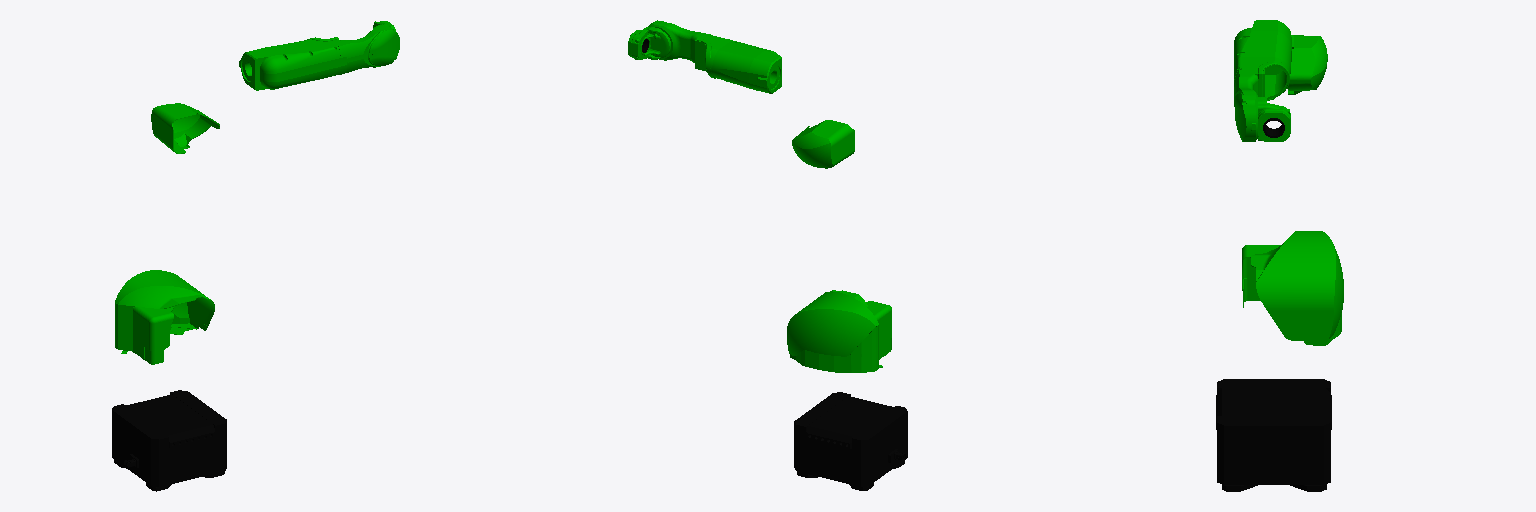
The robot description file, URDF, robot "cr_35ib":
<?xml version="1.0"?>

<robot name="cr_35ib">

    <material name="black">
        <color rgba="0.05 0.05 0.05 1"/>
    </material>

    <material name="green">
        <color rgba="0 0.7 0 1"/>
    </material>

    <link name="world"/>

<!-- base Joint and Link 0 -->

    <joint name="base_joint" type="fixed">
        <origin rpy="0 0 0" xyz="0 0 0"/>
        <parent link="world"/>
        <child link="sensor"/>
    </joint>

    <link name="sensor">
        <visual>
            <origin rpy="0 0 0" xyz="0 0 0"/>
            <geometry>
                <mesh filename="package://fanuc_cr_35ib/meshes/sensor.stl" scale="0.001 0.001 0.001"/>
            </geometry>
            <material name="black"/>
        </visual>
        <collision>
            <origin rpy="0 0 0" xyz="0 0 0"/>
            <geometry>
                <mesh filename="package://fanuc_cr_35ib/meshes/sensor.stl" scale="0.001 0.001 0.001"/>
            </geometry>
        </collision>
        <!-- <inertial>
            <mass value="."/>
            <origin rpy="" xyz=""/>
            <inertia ixx="" ixy="" ixz="" iyy="" iyz="" izz=""/>
        </inertial> -->
    </link>

    <joint name="base_joint2" type="fixed">
        <origin rpy="0 0 0" xyz="0 0 0"/>
        <parent link="world"/>
        <child link="base"/>
    </joint>

    <link name="base">
        <visual>
            <origin rpy="0 0 0" xyz="0 0 0"/>
            <geometry>
                <mesh filename="package://fanuc_cr_35ib/meshes/base.stl" scale="0.001 0.001 0.001"/>
            </geometry>
            <material name="black"/>
        </visual>
        <collision>
            <origin rpy="0 0 0" xyz="0 0 0"/>
            <geometry>
                <mesh filename="package://fanuc_cr_35ib/meshes/base.stl" scale="0.001 0.001 0.001"/>
            </geometry>
        </collision>
        <!-- <inertial>
            <mass value=""/>
            <origin rpy="" xyz=""/>
            <inertia ixx="" ixy="" ixz="" iyy="" iyz="" izz=""/>
        </inertial> -->
    </link>

<!-- Joint 1 and Link 1 -->

    <joint name="J1" type="revolute">
        <origin rpy="0 0 0" xyz="0 0 0.668"/>
        <parent link="base"/>
        <child link="link1"/>
        <axis xyz="0 0 1"/>
        <limit lower="-3.23" upper="3.23" effort="1" velocity="1.0"/>
    </joint>
    <link name="link1">
        <visual>
            <origin rpy="0 0 0" xyz="0 0 0"/>
            <geometry>
                <mesh filename="package://fanuc_cr_35ib/meshes/link1.stl" scale="0.001 0.001 0.001"/>
            </geometry>
            <material name="green"/>
        </visual>
        <collision>
            <origin rpy="0 0 0" xyz="0 0 0"/>
            <geometry>
                <mesh filename="package://fanuc_cr_35ib/meshes/link1.stl" scale="0.001 0.001 0.001"/>
            </geometry>
        </collision>
        <!-- <inertial>
            <mass value=""/>
            <origin rpy="" xyz=""/>
            <inertia ixx="" ixy="" ixz="" iyy="" iyz="" izz=""/>
        </inertial> -->
    </link>

    <joint name="cover_j1" type="fixed">
        <origin rpy="0 0 0" xyz="0 0 0"/>
        <parent link="link1"/>
        <child link="cover_j1"/>
    </joint>
    <link name="cover_j1">
        <visual>
            <origin rpy="0 0 0" xyz="0 0 0"/>
            <geometry>
                <mesh filename="package://fanuc_cr_35ib/meshes/coverj1.stl" scale="0.001 0.001 0.001"/>
            </geometry>
            <material name="green"/>
        </visual>
        <collision>
            <origin rpy="0 0 0" xyz="0 0 0"/>
            <geometry>
                <mesh filename="package://fanuc_cr_35ib/meshes/coverj1.stl" scale="0.001 0.001 0.001"/>
            </geometry>
        </collision>
        <!-- <inertial>
            <mass value=""/>
            <origin rpy="" xyz=""/>
            <inertia ixx="" ixy="" ixz="" iyy="" iyz="" izz=""/>
        </inertial> -->
    </link>

    <joint name="rear_cover_j1" type="fixed">
        <origin rpy="0 0 0" xyz="0 0 0"/>
        <parent link="link1"/>
        <child link="rear_cover_j1"/>
    </joint>
    <link name="rear_cover_j1">
        <visual>
            <origin rpy="0 0 0" xyz="0 0 0"/>
            <geometry>
                <mesh filename="package://fanuc_cr_35ib/meshes/rearcoverj1.stl" scale="0.001 0.001 0.001"/>
            </geometry>
            <material name="green"/>
        </visual>
        <collision>
            <origin rpy="0 0 0" xyz="0 0 0"/>
            <geometry>
                <mesh filename="package://fanuc_cr_35ib/meshes/rearcoverj1.stl" scale="0.001 0.001 0.001"/>
            </geometry>
        </collision>
        <!-- <inertial>
            <mass value=""/>
            <origin rpy="" xyz=""/>
            <inertia ixx="" ixy="" ixz="" iyy="" iyz="" izz=""/>
        </inertial> -->
    </link>

<!-- Joint 2 and Link 2 -->

    <joint name="J2" type="revolute">
        <origin rpy="-1.570796 0 0" xyz="0.075 0 0"/>
        <parent link="link1"/>
        <child link="link2"/>
        <axis xyz="0 0 1"/>
        <limit lower="-1.40" upper="2.36" effort="1" velocity="1.0"/>
    </joint>
    <link name="link2">
        <visual>
            <origin rpy="0 0 0" xyz="0 0 0"/>
            <geometry>
                <mesh filename="package://fanuc_cr_35ib/meshes/link2.stl" scale="0.001 0.001 0.001"/>
            </geometry>
            <material name="green"/>
        </visual>
        <collision>
            <origin rpy="0 0 0" xyz="0 0 0"/>
            <geometry>
                <mesh filename="package://fanuc_cr_35ib/meshes/link2.stl" scale="0.001 0.001 0.001"/>
            </geometry>
        </collision>
        <!-- <inertial>
            <mass value=""/>
            <origin rpy="" xyz=""/>
            <inertia ixx="" ixy="" ixz="" iyy="" iyz="" izz=""/>
        </inertial> -->
    </link>

<!-- Joint 3 and Link 3 -->

    <joint name="J3" type="revolute">
        <origin rpy="3.141529 0 -1.570796" xyz="0 -0.840 0"/>
        <parent link="link2"/>
        <child link="link3"/>
        <axis xyz="0 0 1"/>
        <limit lower="-2.42" upper="3.49" effort="1" velocity="1.0"/>
    </joint>
    <link name="link3">
        <visual>
            <origin rpy="0 0 0" xyz="0 0 0"/>
            <geometry>
                <mesh filename="package://fanuc_cr_35ib/meshes/link3.stl" scale="0.001 0.001 0.001"/>
            </geometry>
            <material name="green"/>
        </visual>
        <collision>
            <origin rpy="0 0 0" xyz="0 0 0"/>
            <geometry>
                <mesh filename="package://fanuc_cr_35ib/meshes/link3.stl" scale="0.001 0.001 0.001"/>
            </geometry>
        </collision>
        <!-- <inertial>
            <mass value=""/>
            <origin rpy="" xyz=""/>
            <inertia ixx="" ixy="" ixz="" iyy="" iyz="" izz=""/>
        </inertial> -->
    </link>

    <joint name="cover_j3" type="fixed">
        <origin rpy="0 0 0" xyz="0 0 0"/>
        <parent link="link3"/>
        <child link="cover_j3"/>
    </joint>
    <link name="cover_j3">
        <visual>
            <origin rpy="0 0 0" xyz="0 0 0"/>
            <geometry>
                <mesh filename="package://fanuc_cr_35ib/meshes/coverj3.stl" scale="0.001 0.001 0.001"/>
            </geometry>
            <material name="green"/>
        </visual>
        <collision>
            <origin rpy="0 0 0" xyz="0 0 0"/>
            <geometry>
                <mesh filename="package://fanuc_cr_35ib/meshes/coverj3.stl" scale="0.001 0.001 0.001"/>
            </geometry>
        </collision>
        <!-- <inertial>
            <mass value=""/>
            <origin rpy="" xyz=""/>
            <inertia ixx="" ixy="" ixz="" iyy="" iyz="" izz=""/>
        </inertial> -->
    </link>

<!-- Joint 4 and Link 4 -->

    <joint name="J4" type="revolute">
        <origin rpy="-1.570796 0 0" xyz="0.215 0 0"/>
        <parent link="link3"/>
        <child link="link4"/>
        <axis xyz="0 0 1"/>
        <limit lower="-3.49" upper="3.49" effort="1" velocity="1.0"/>
    </joint>
    <link name="link4">
        <visual>
            <origin rpy="0 0 0" xyz="0 0 0"/>
            <geometry>
                <mesh filename="package://fanuc_cr_35ib/meshes/link4.stl" scale="0.001 0.001 0.001"/>
            </geometry>
            <material name="green"/>
        </visual>
        <collision>
            <origin rpy="0 0 0" xyz="0 0 0"/>
            <geometry>
                <mesh filename="package://fanuc_cr_35ib/meshes/link4.stl" scale="0.001 0.001 0.001"/>
            </geometry>
        </collision>
        <!-- <inertial>
            <mass value=""/>
            <origin rpy="" xyz=""/>
            <inertia ixx="" ixy="" ixz="" iyy="" iyz="" izz=""/>
        </inertial> -->
    </link>

<!-- Joint 5 and Link 5 -->

    <joint name="J5" type="revolute">
        <origin rpy="1.570796 0 0" xyz="0 0 -0.890"/>
        <parent link="link4"/>
        <child link="link5"/>
        <axis xyz="0 0 1"/>
        <limit lower="-2.44" upper="2.44" effort="1" velocity="1.0"/>
    </joint>
    <link name="link5">
        <visual>
            <origin rpy="0 0 0" xyz="0 0 0"/>
            <geometry>
                <mesh filename="package://fanuc_cr_35ib/meshes/link5.stl" scale="0.001 0.001 0.001"/>
            </geometry>
            <material name="green"/>
        </visual>
        <collision>
            <origin rpy="0 0 0" xyz="0 0 0"/>
            <geometry>
                <mesh filename="package://fanuc_cr_35ib/meshes/link5.stl" scale="0.001 0.001 0.001"/>
            </geometry>
        </collision>
        <!-- <inertial>
            <mass value=""/>
            <origin rpy="" xyz=""/>
            <inertia ixx="" ixy="" ixz="" iyy="" iyz="" izz=""/>
        </inertial> -->
    </link>

<!-- Joint 6 and Link 6 -->

    <joint name="J6" type="revolute">
        <origin rpy="-1.570796 0 0" xyz="0 0 0"/>
        <parent link="link5"/>
        <child link="link6"/>
        <axis xyz="0 0 1"/>
        <limit lower="-7.85" upper="7.85" effort="1" velocity="1.0"/>
    </joint>
    <link name="link6">
        <visual>
            <origin rpy="0 0 0" xyz="0 0 0"/>
            <geometry>
                <mesh filename="package://fanuc_cr_35ib/meshes/link6.stl" scale="0.001 0.001 0.001"/>
            </geometry>
            <material name="black"/>
        </visual>
        <collision>
            <origin rpy="0 0 0" xyz="0 0 0"/>
            <geometry>
                <mesh filename="package://fanuc_cr_35ib/meshes/link6.stl" scale="0.001 0.001 0.001"/>
            </geometry>
        </collision>
        <!-- <inertial>
            <mass value=""/>
            <origin rpy="" xyz=""/>
            <inertia ixx="" ixy="" ixz="" iyy="" iyz="" izz=""/>
        </inertial> -->
    </link>

<!-- TCP -->

    <joint name="tcp" type="fixed">
        <origin rpy="3.141593 0 0" xyz="0 0 -0.090"/>
        <parent link="link6"/>
        <child link="tcp"/>
    </joint>
    <link name="tcp"/>

</robot>

--- Render facts (derived) ---
Views: 3 orthographic renders of the robot side by side, from view 1: azimuth 30°, elevation 25°; view 2: azimuth 150°, elevation 25°; view 3: azimuth 270°, elevation 25°.
Model cr_35ib with 13 links and 12 joints (6 revolute, 6 fixed), rooted at world, posed every joint at zero.
Links seen in each view (by area): view 1: sensor, link4, cover_j1, rear_cover_j1, cover_j3; view 2: sensor, link4, cover_j1, rear_cover_j1, cover_j3, link5; view 3: sensor, cover_j1, link4, cover_j3, rear_cover_j1, link5.
Link boxes in pixels (left/top/right/bottom): sensor: left=112, top=390, right=226, bottom=491; link4: left=239, top=26, right=399, bottom=90; cover_j1: left=115, top=270, right=214, bottom=330; rear_cover_j1: left=115, top=303, right=198, bottom=364; cover_j3: left=151, top=103, right=219, bottom=153; sensor: left=794, top=392, right=907, bottom=490; link4: left=648, top=20, right=781, bottom=93; cover_j1: left=787, top=290, right=878, bottom=356; rear_cover_j1: left=790, top=301, right=891, bottom=372; cover_j3: left=792, top=120, right=854, bottom=168; link5: left=628, top=27, right=670, bottom=59; sensor: left=1216, top=379, right=1331, bottom=491; cover_j1: left=1251, top=231, right=1343, bottom=340; link4: left=1234, top=20, right=1293, bottom=141; cover_j3: left=1287, top=35, right=1327, bottom=94; rear_cover_j1: left=1242, top=245, right=1341, bottom=345; link5: left=1258, top=97, right=1290, bottom=141.
Bounding box of the posed robot: 1.29 × 0.4202 × 1.8 m (x, y, z).
7 mesh visuals loaded from 11 distinct referenced files (7 binary STL); not drawn: 4 (reference not matched to a file when rendering).
